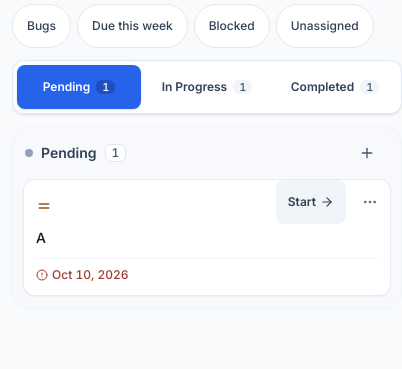
Test: BoardView moving tasks › shows a labelled quick action with the next state on every card
Click the button with aria-label "Start A: move to In Progress" at (311, 202), box [276,180,346,224]
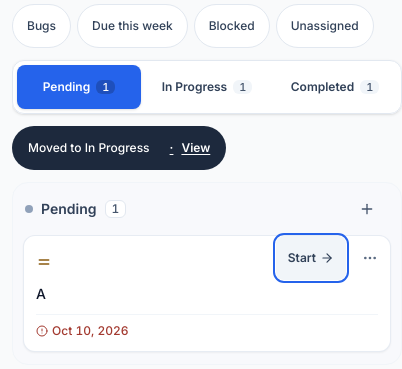
Now the message shows "Moved to In Progress", box [28,140,150,155]
